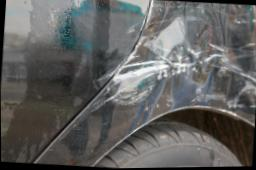Fender: (98, 1, 256, 143)
